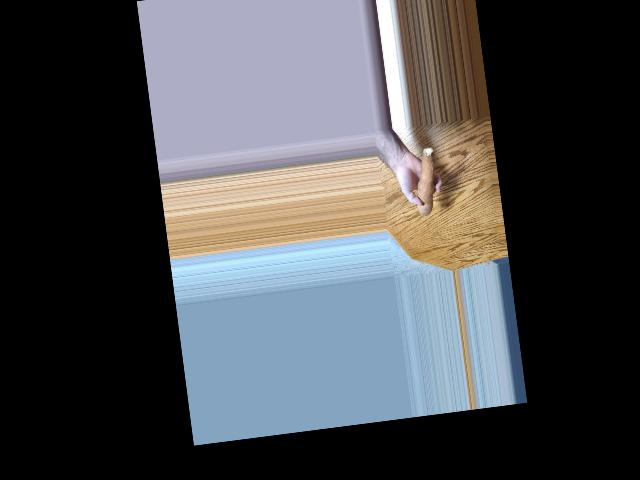sweet_potato: (412, 141, 443, 219)
